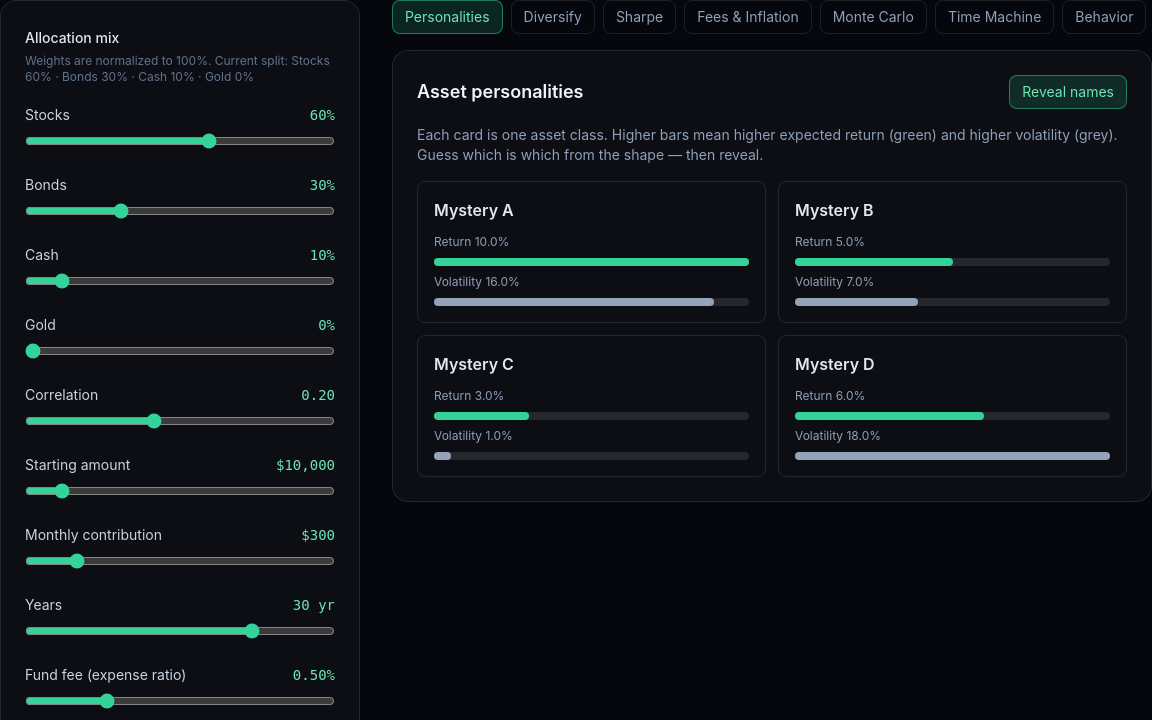
Test case: PortfolioSandbox — sharpe lens › shows a Sharpe ratio that responds to the mix
Click the tab "Sharpe": (640, 17) [603,0,676,34]
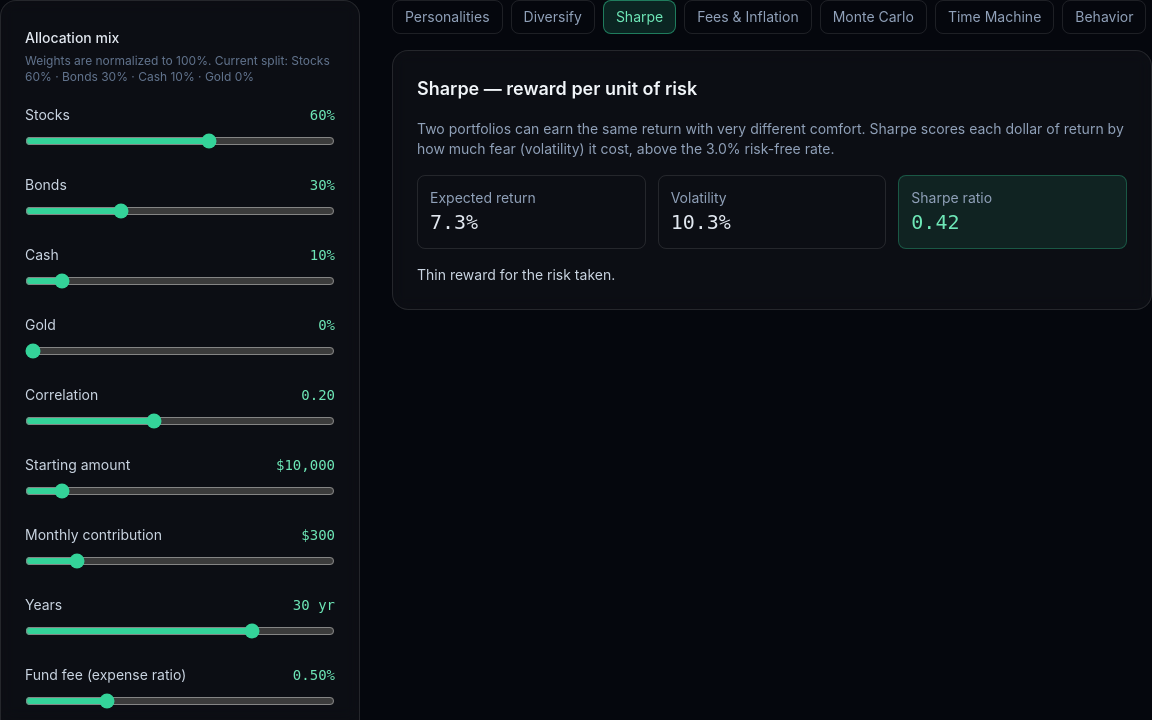
Result: the text "Sharpe ratio" is shown at [911,189,992,206]
Result: the heading "Sharpe — reward per unit of risk" is shown at [417,78,697,99]
